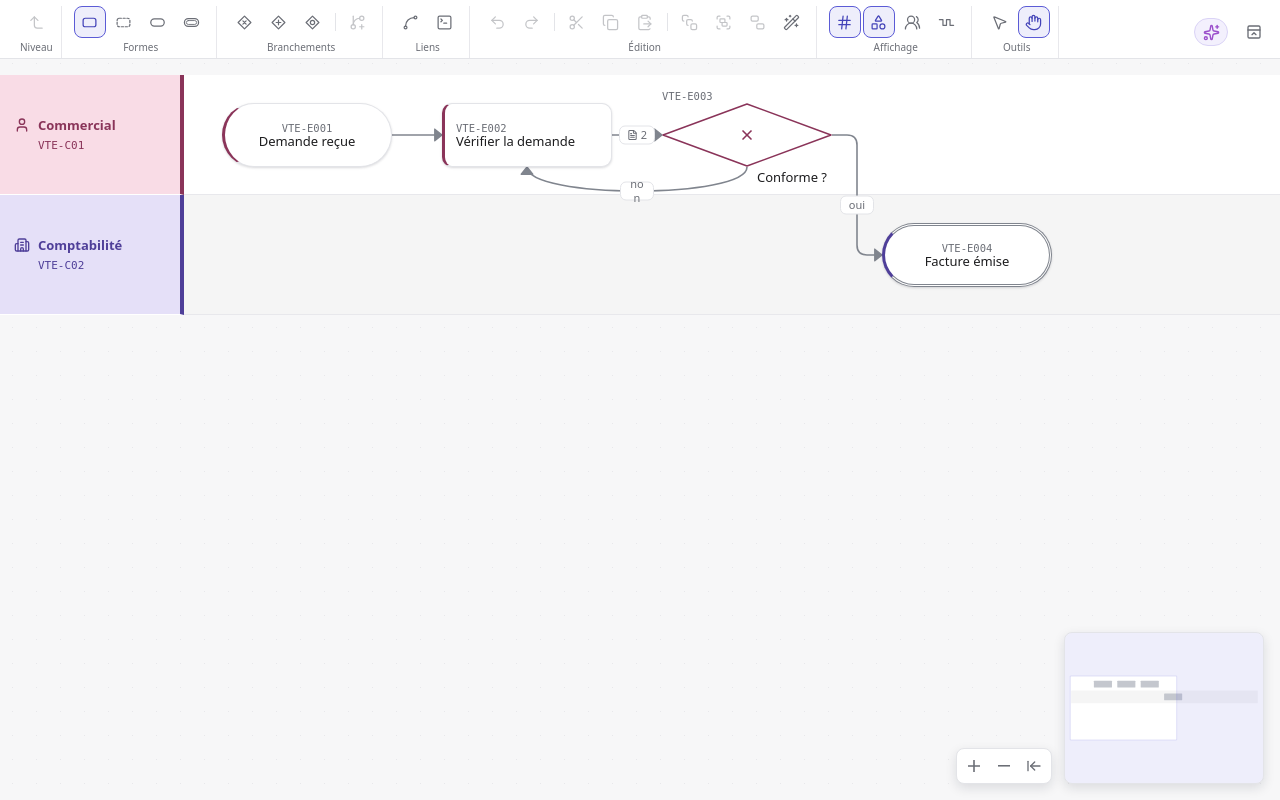
a proposal on a map with content › previews its changes, marks the steps it changes or removes, and applies with the version of its preview
The image size is (1280, 800).
Click the button with test id "ribbon-assistant". click: (1211,32)
box: [1194,18,1228,46]
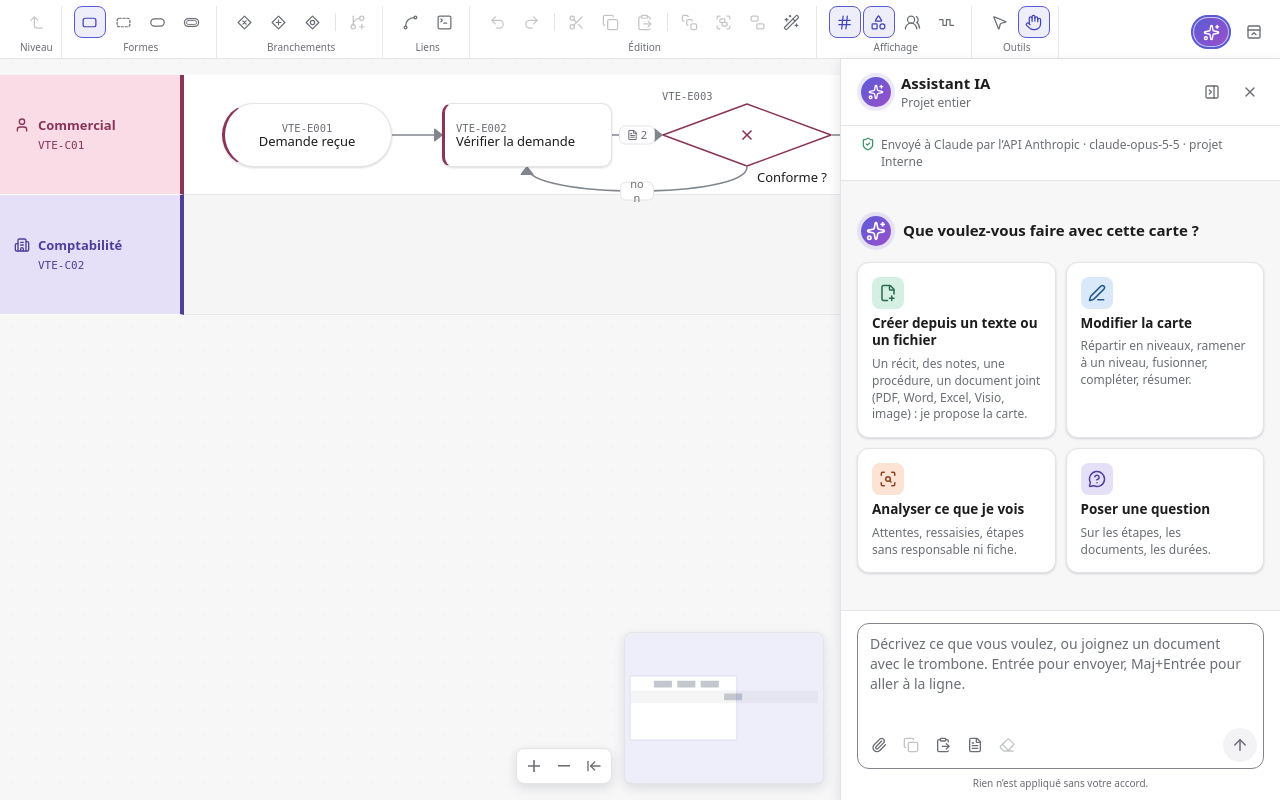
Type "Restructure la carte." into the text box with test id "assistant-field". click: (1060,674)
box: [858,624,1263,724]
Then press Enter
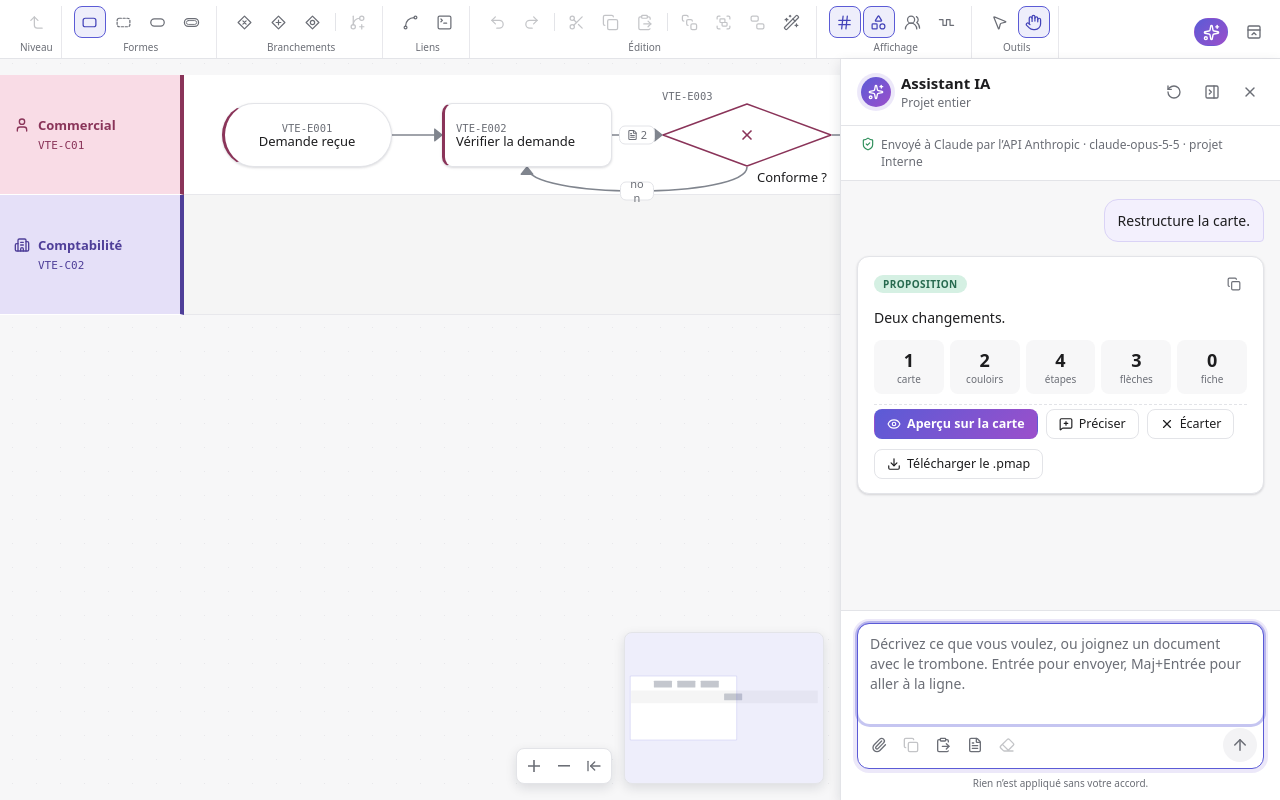
Check: the element with test id "assistant-proposal" is shown, box [874,340,1247,479]
Click the button with test id "assistant-preview". click: (956,424)
box: [874,409,1038,439]
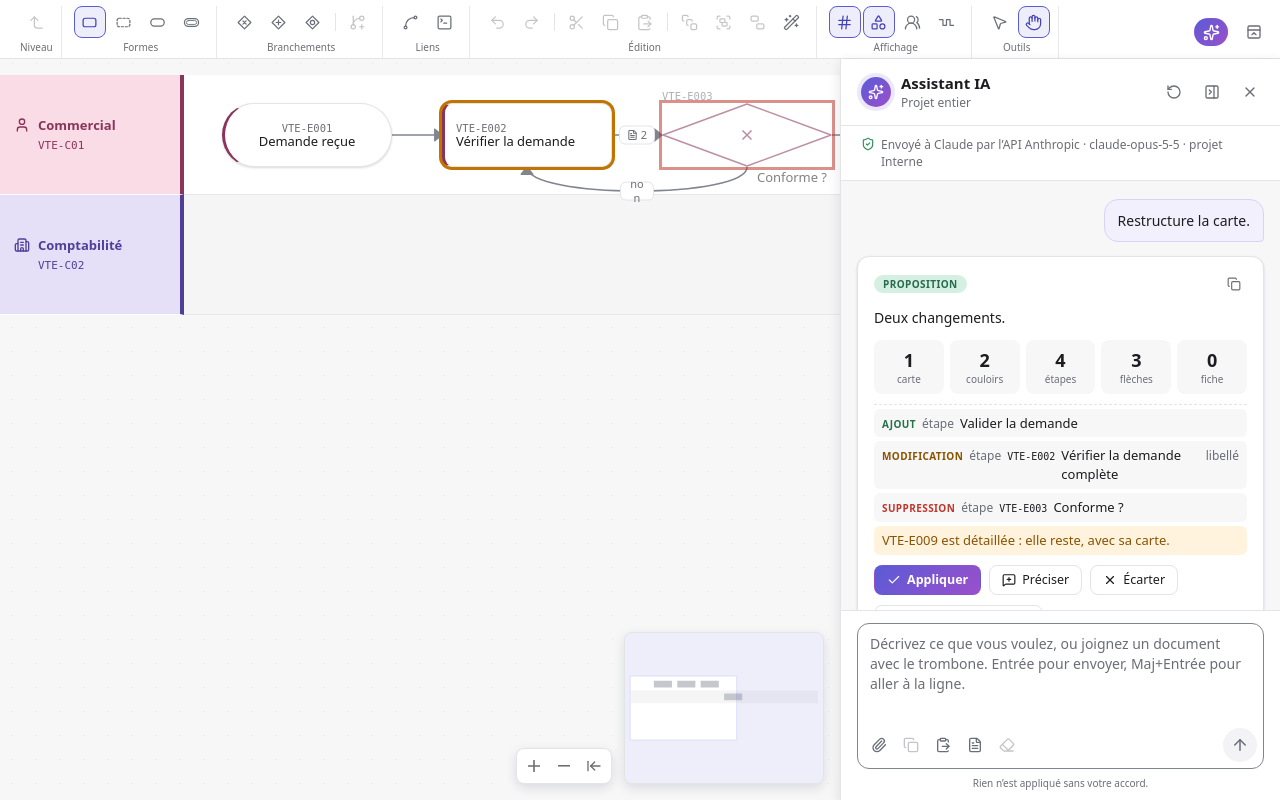
Check: the list with test id "assistant-changes" shows "Suppression", box [882,501,955,515]
Check: the list with test id "assistant-changes" shows "VTE-E009 est détaillée : elle reste, avec sa carte.", box [882,531,1170,549]
Click the button with test id "assistant-apply". click: (928,580)
box: [874,565,981,595]
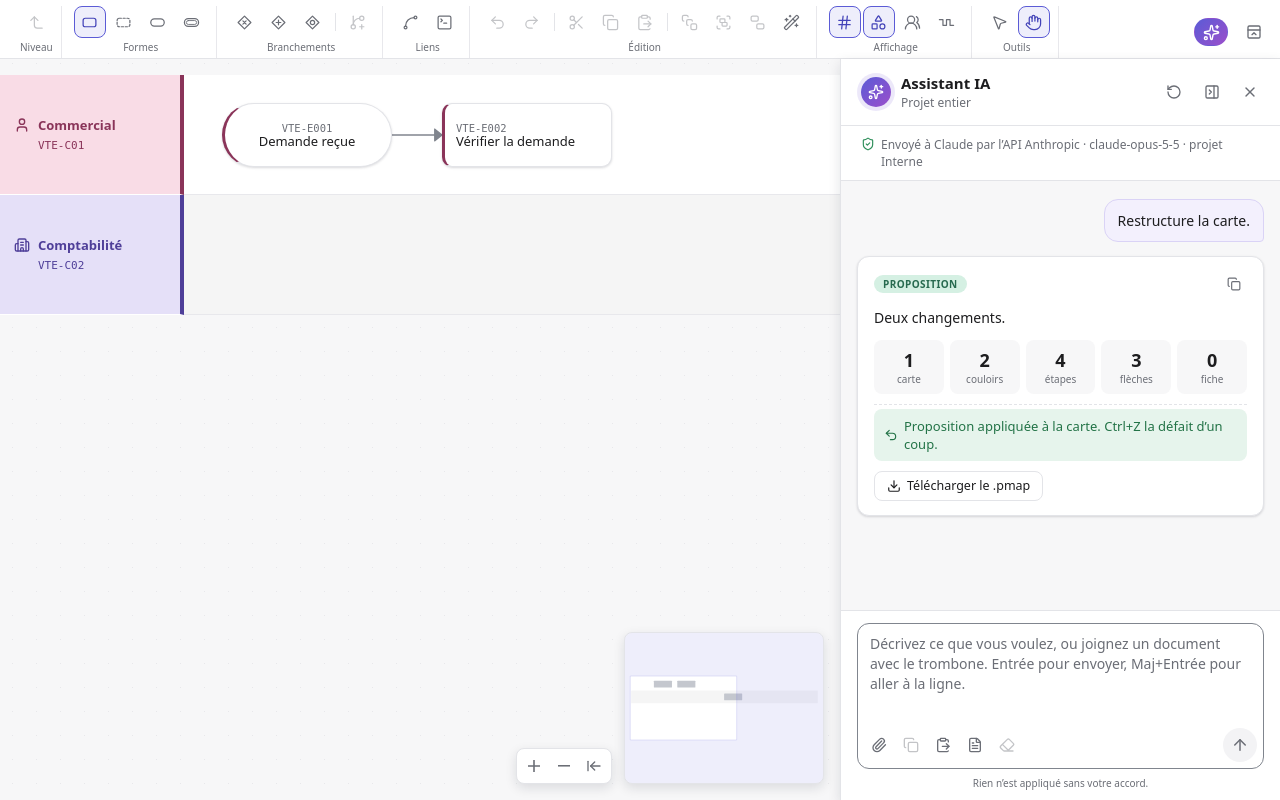
Check: the element with test id "assistant-applied" shows "Ctrl+Z la défait d’un coup", box [904,417,1222,453]
